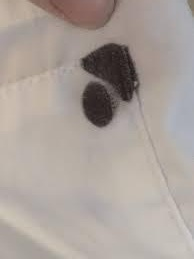ink: (81, 41, 134, 97), (82, 84, 111, 125)
